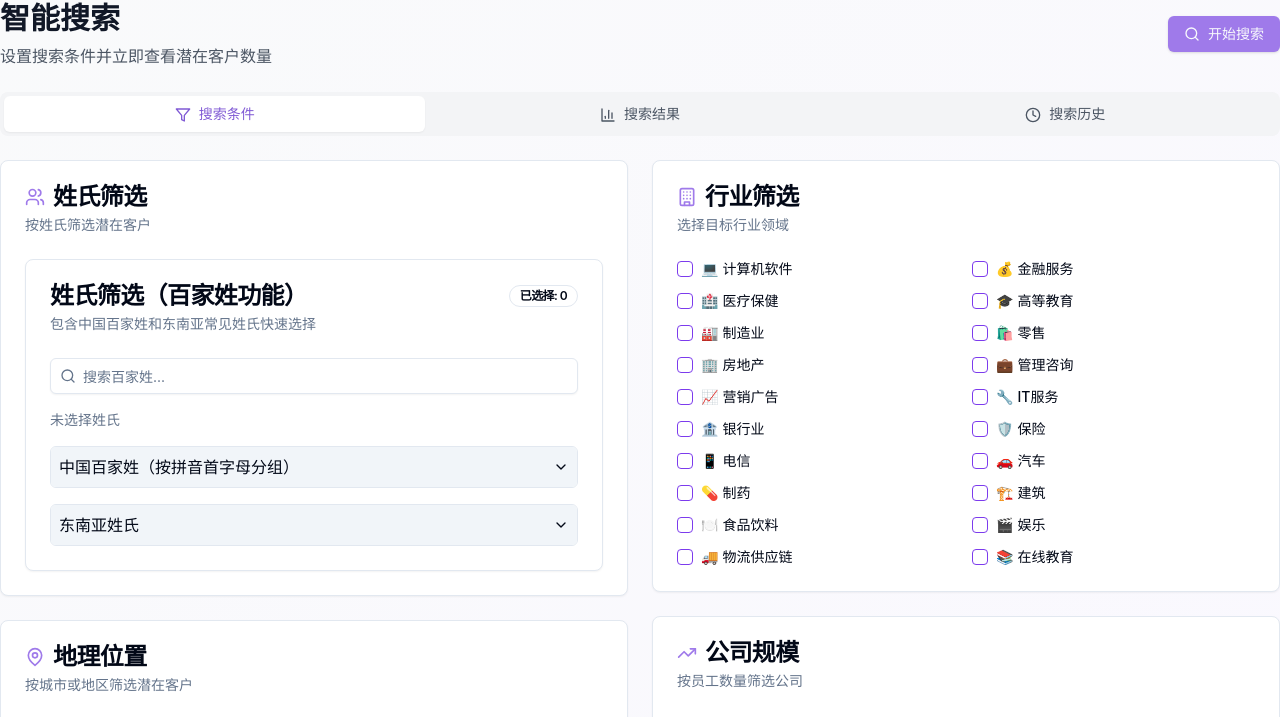
Scenario: IntegratedSearchPage 单元测试 › 界面交互测试 › 应该能够切换标签页
Click the button "搜索结果": (640, 114) [429, 96, 851, 132]
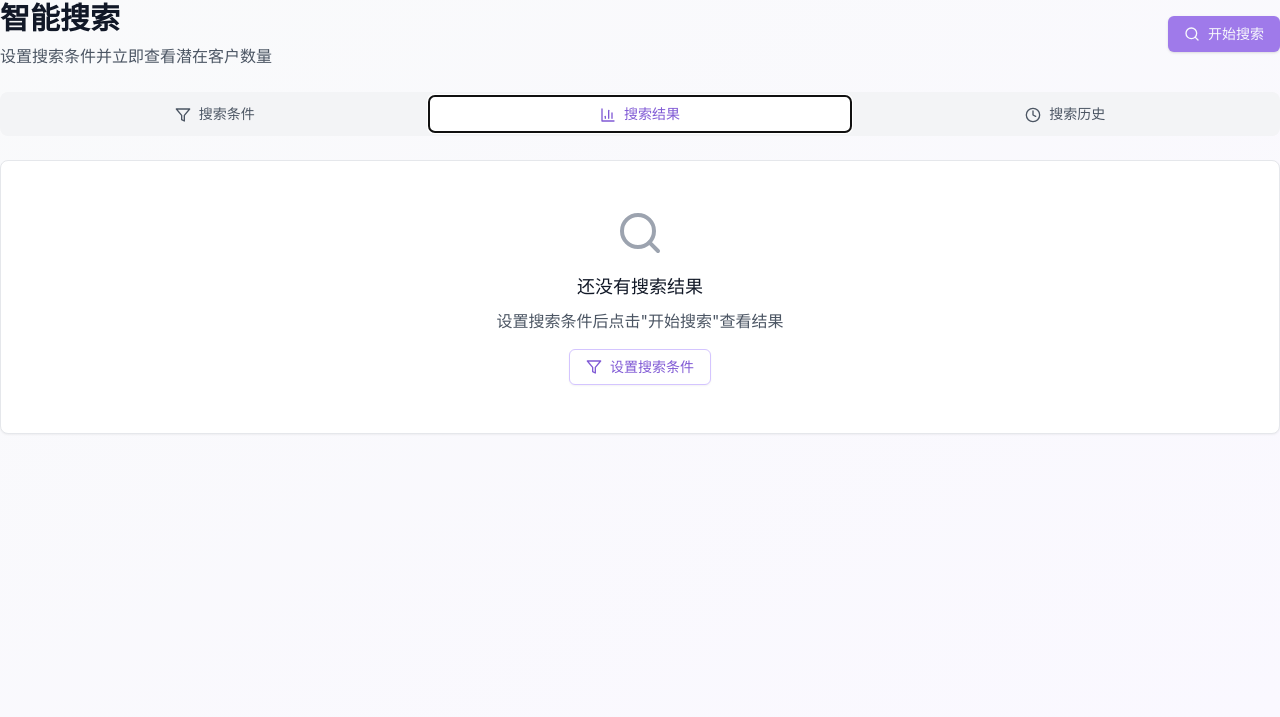
Expected: the heading "还没有搜索结果" is shown, [577, 276, 703, 297]
Click the button "搜索历史": (1065, 114) [855, 96, 1276, 132]
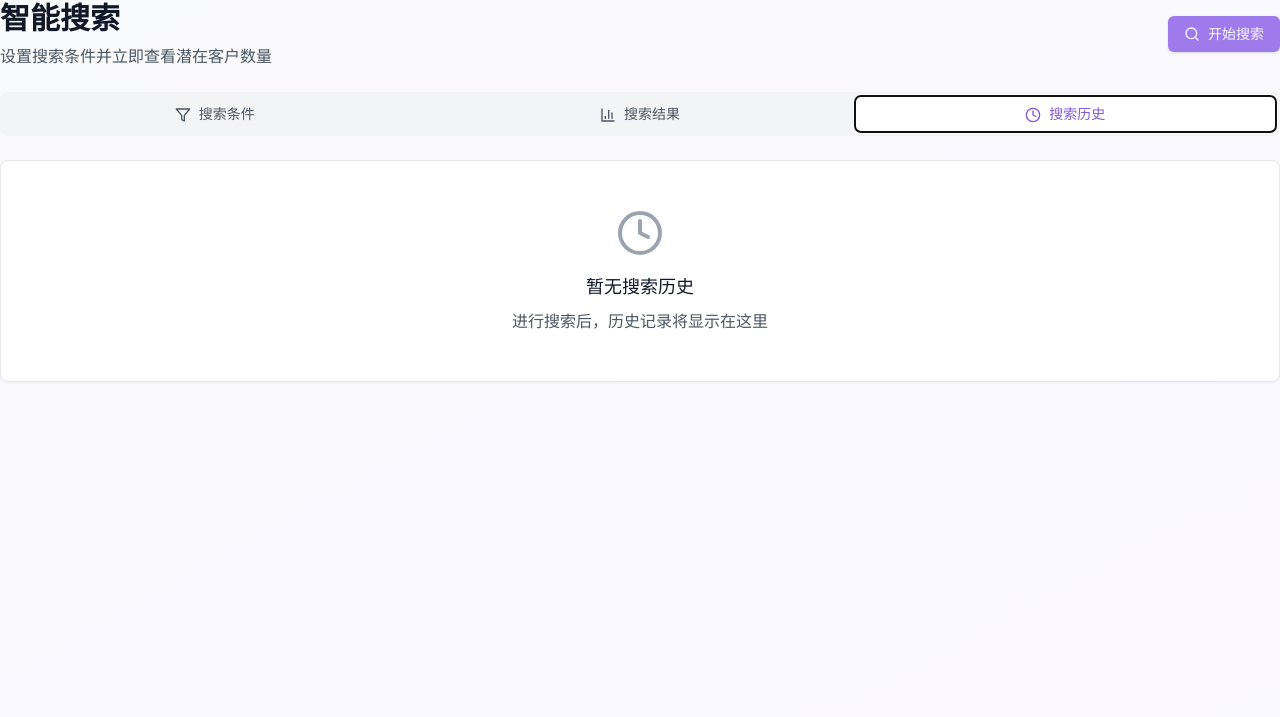
Expected: the heading "暂无搜索历史" is shown, [586, 276, 694, 297]
